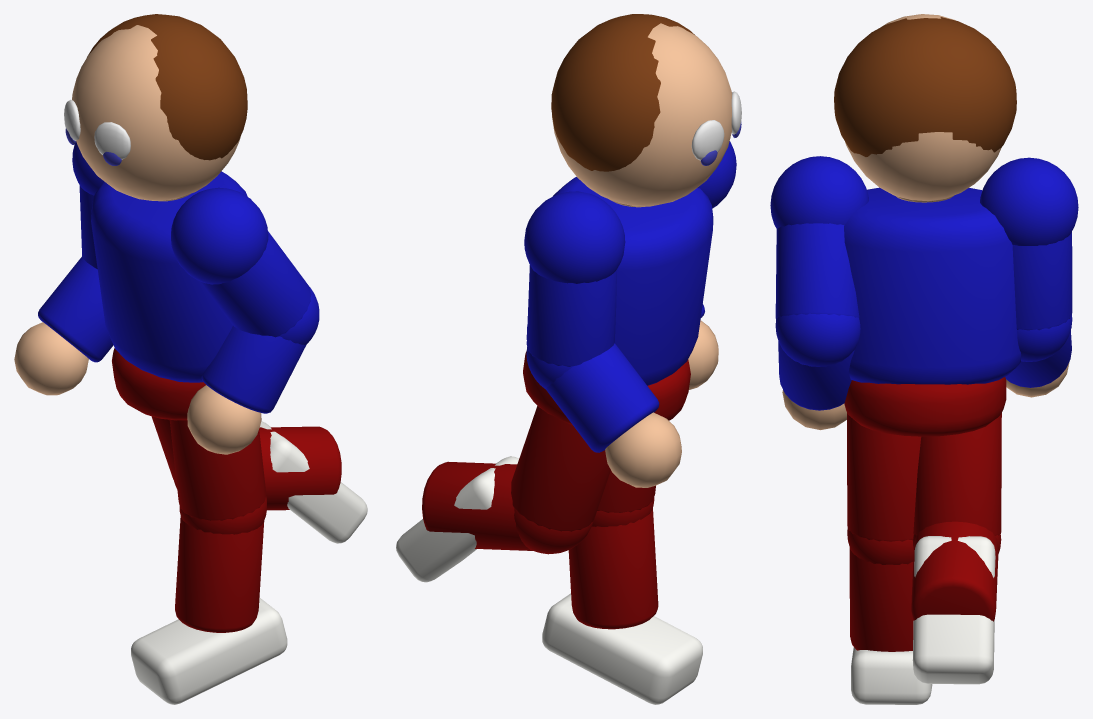
3 renders of one model, left to right at view 1: azimuth 30°, elevation 25°; view 2: azimuth 150°, elevation 25°; view 3: azimuth 270°, elevation 25°, orthographic. The views are drawn at different scales.
Parts seen in each view (by area): view 1: torso, head, hair, shoe_n, shin_n, shoulder_ball_n, thigh_n, uarm_n, farm_n, shin_f, farm_f, shoe_f (+9 smaller); view 2: torso, hair, head, shoe_n, thigh_f, shin_n, shoulder_ball_f, uarm_f, farm_f, shin_f, shoe_f, hand_f (+8 smaller); view 3: torso, hair, thigh_f, thigh_n, pelvis, uarm_n, shoe_f, head, shoulder_ball_f, shin_f, shin_n, shoulder_ball_n (+9 smaller).
Boxes of the visible parts, left/top/right/bottom form: torso: left=91, top=171, right=247, bottom=382; head: left=72, top=25, right=240, bottom=200; hair: left=87, top=14, right=247, bottom=160; shoe_n: left=131, top=597, right=287, bottom=704; shin_n: left=175, top=516, right=264, bottom=632; shoulder_ball_n: left=171, top=187, right=268, bottom=284; thigh_n: left=169, top=419, right=266, bottom=520; uarm_n: left=201, top=231, right=311, bottom=337; farm_n: left=201, top=325, right=306, bottom=413; shin_f: left=259, top=426, right=341, bottom=510; farm_f: left=38, top=256, right=113, bottom=362; shoe_f: left=260, top=421, right=367, bottom=543; torso: left=526, top=177, right=713, bottom=385; hair: left=551, top=14, right=694, bottom=171; head: left=552, top=23, right=732, bottom=206; shoe_n: left=542, top=593, right=702, bottom=704; thigh_f: left=511, top=406, right=610, bottom=531; shin_n: left=568, top=508, right=658, bottom=629; shoulder_ball_f: left=524, top=191, right=625, bottom=283; uarm_f: left=526, top=265, right=617, bottom=366; farm_f: left=545, top=343, right=659, bottom=452; shin_f: left=422, top=461, right=532, bottom=550; shoe_f: left=396, top=456, right=518, bottom=582; hand_f: left=605, top=412, right=681, bottom=487; torso: left=844, top=187, right=1021, bottom=384; hair: left=834, top=17, right=1016, bottom=156; thigh_f: left=913, top=413, right=1001, bottom=535; thigh_n: left=847, top=413, right=921, bottom=541; pelvis: left=844, top=377, right=1006, bottom=436; uarm_n: left=775, top=223, right=859, bottom=319; shoe_f: left=912, top=536, right=995, bottom=684; head: left=845, top=14, right=1001, bottom=201; shoulder_ball_f: left=980, top=157, right=1078, bottom=245; shin_f: left=911, top=521, right=998, bottom=621; shin_n: left=849, top=547, right=913, bottom=651; shoulder_ball_n: left=770, top=156, right=868, bottom=228.
Size of the model in its own units: 0.6887 by 1.46 by 0.6117.
